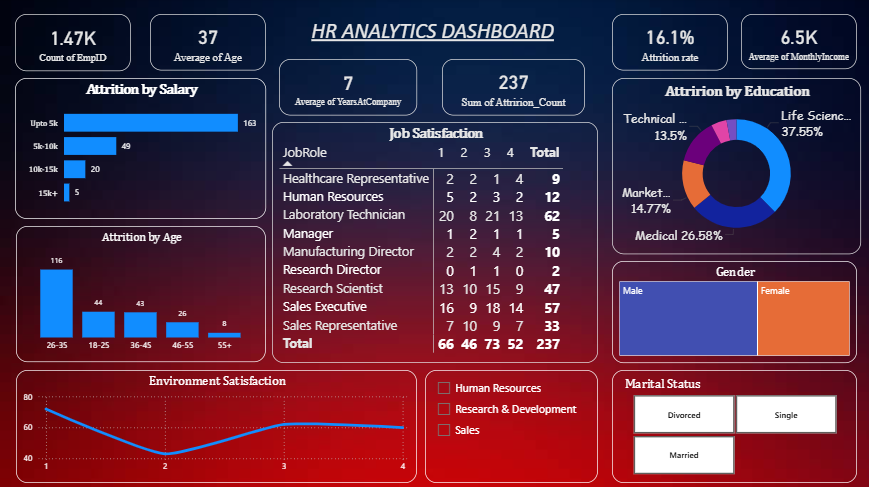

The page's visual inventory and layout, read from the dashboard file:
{"tool":"powerbi","page":{"name":"Page 1","canvas":[1280,720],"ordinal":0},"visuals":[{"type":"card","title":"Count of Employee","fields":{"Values":["CountNonNull(HR_Analytics.EmpID)"]},"box":[21.4,22.9,170,84.3],"z":0},{"type":"card","title":"Count of Employee","fields":{"Values":["Sum(HR_Analytics.Attririon_Count)"]},"box":[650,90,210,82.9],"z":1000},{"type":"card","title":"Count of Employee","fields":{"Values":["HR_Analytics.Attrition rate"]},"box":[898.6,22.9,170,82.9],"z":2000},{"type":"card","title":"Count of Employee","fields":{"Values":["Avg(HR_Analytics.Age)"]},"box":[220,22.9,170,82.9],"z":3000},{"type":"card","title":"Count of Employee","fields":{"Values":["Avg(HR_Analytics.MonthlyIncome)"]},"box":[1088.6,22.9,170,81.4],"z":4000},{"type":"card","title":"Count of Employee","fields":{"Values":["Avg(HR_Analytics.YearsAtCompany)"]},"box":[410,90,202.9,82.9],"z":5000},{"type":"donutChart","title":"Attririon by Education","fields":{"Y":["Sum(HR_Analytics.Attririon_Count)"],"Category":["HR_Analytics.EducationField"]},"box":[898.6,117.1,365.7,258.6],"z":6000},{"type":"pivotTable","title":"Job Satisfaction","fields":{"Columns":["HR_Analytics.JobSatisfaction"],"Values":["Sum(HR_Analytics.Attririon_Count)"],"Rows":["HR_Analytics.JobRole"]},"box":[400,182.9,478.6,354.3],"z":7000},{"type":"columnChart","title":"Attrition by Age","fields":{"Category":["HR_Analytics.AgeGroup"],"Y":["Sum(HR_Analytics.Attririon_Count)"]},"box":[23.5,335,367.3,199.8],"z":8000},{"type":"barChart","title":"Attrition by Salary","fields":{"Y":["Sum(HR_Analytics.Attririon_Count)"],"Category":["HR_Analytics.SalarySlab"]},"box":[21.4,117.1,368.6,207.1],"z":9000},{"type":"slicer","fields":{"Values":["HR_Analytics.Department"]},"box":[624.5,546.6,254.2,166],"z":10000},{"type":"textbox","box":[411.4,22.9,448.6,51.4],"z":11000},{"type":"treemap","title":"Gender","fields":{"Values":["CountNonNull(HR_Analytics.Gender)"],"Group":["HR_Analytics.Gender"]},"box":[899.3,386.4,360,149.9],"z":11001},{"type":"lineChart","title":"Environment Satisfaction","fields":{"Category":["HR_Analytics.EnvironmentSatisfaction"],"Y":["Sum(HR_Analytics.Attririon_Count)"]},"box":[23.5,546.6,589.2,166],"z":11002},{"type":"slicer","fields":{"Values":["HR_Analytics.MaritalStatus"]},"box":[899.3,546.6,360,166],"z":11003}]}

Visuals, with their boxes in screenshot pixels (x1, y1, x2, y2), scaled from the page's 1280x720 canvas onto the 869x487 screenshot:
"Count of Employee" card: <region>15, 15, 130, 73</region>
"Count of Employee" card: <region>441, 61, 584, 117</region>
"Count of Employee" card: <region>610, 15, 725, 72</region>
"Count of Employee" card: <region>149, 15, 265, 72</region>
"Count of Employee" card: <region>739, 15, 854, 71</region>
"Count of Employee" card: <region>278, 61, 416, 117</region>
"Attririon by Education" donutChart: <region>610, 79, 858, 254</region>
"Job Satisfaction" pivotTable: <region>272, 124, 596, 363</region>
"Attrition by Age" columnChart: <region>16, 227, 265, 362</region>
"Attrition by Salary" barChart: <region>15, 79, 265, 219</region>
slicer - HR_Analytics.Department: <region>424, 370, 597, 482</region>
textbox: <region>279, 15, 584, 50</region>
"Gender" treemap: <region>611, 261, 855, 363</region>
"Environment Satisfaction" lineChart: <region>16, 370, 416, 482</region>
slicer - HR_Analytics.MaritalStatus: <region>611, 370, 855, 482</region>
